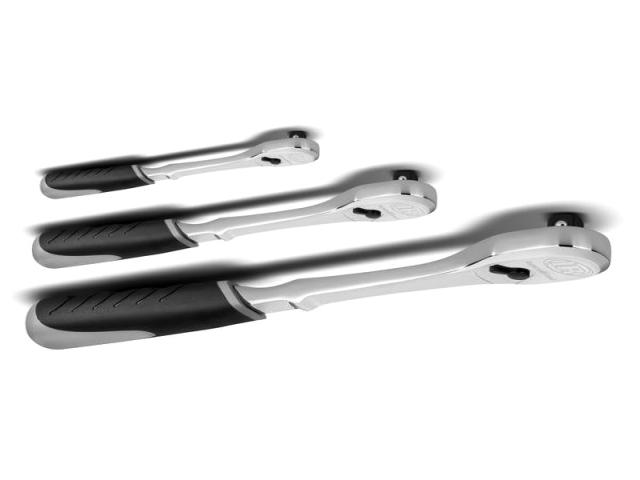Ratchet: (26, 214, 613, 349), (32, 171, 436, 268), (41, 131, 319, 199)
